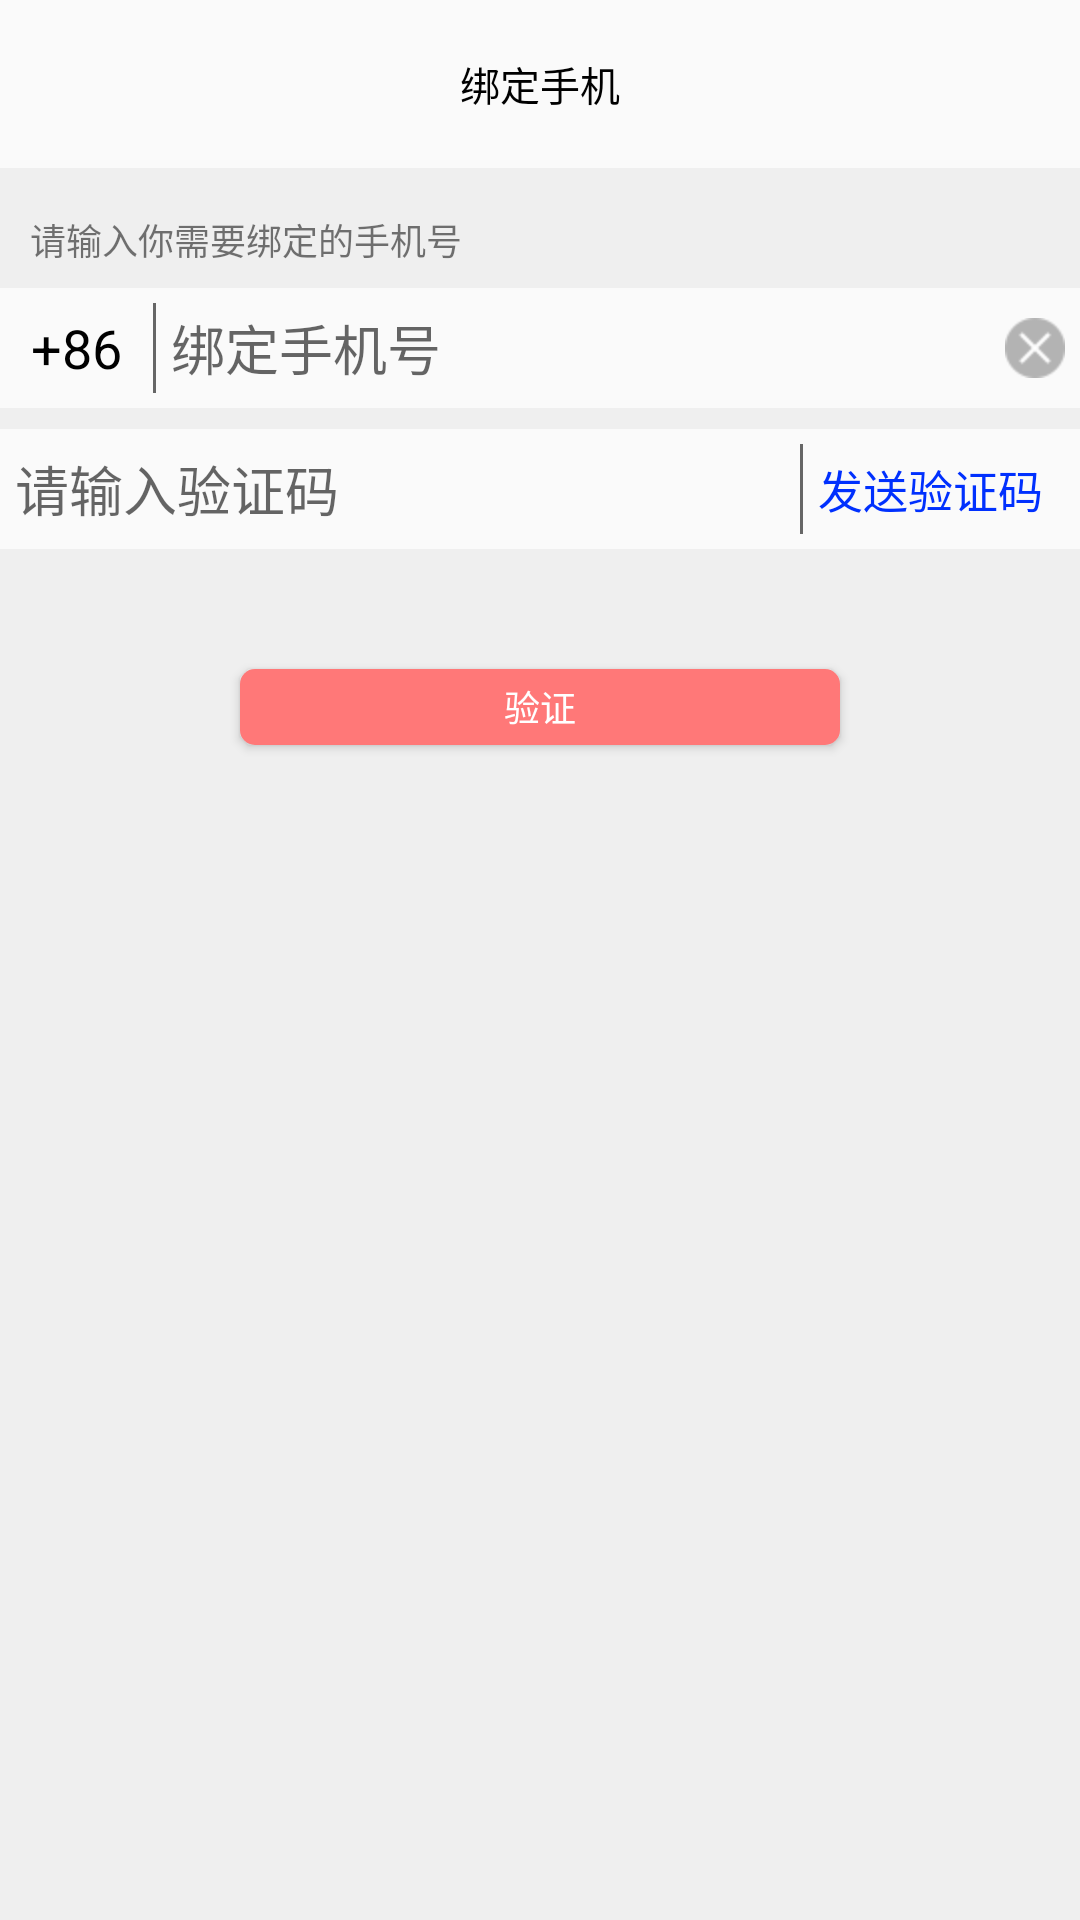

Named icons in this screenshot (1080w x 1920h) and their centers, [x,y]:
delete: [1035,348]
